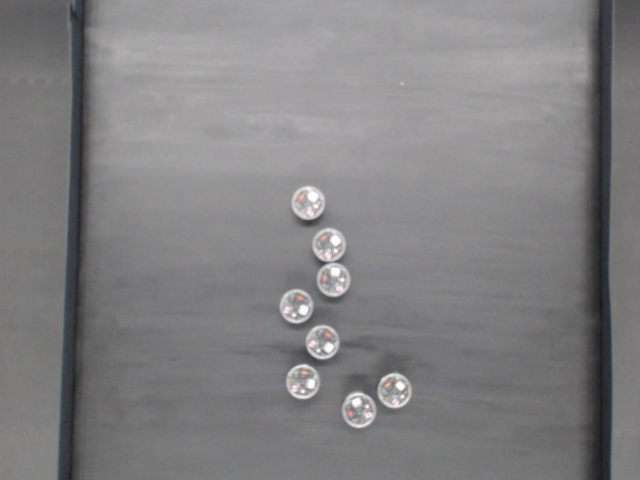epuck_2: (304, 324, 341, 361), (377, 372, 413, 410), (341, 390, 376, 429), (278, 288, 315, 324), (285, 364, 321, 400), (315, 263, 352, 298), (313, 226, 347, 263), (292, 186, 324, 221)
